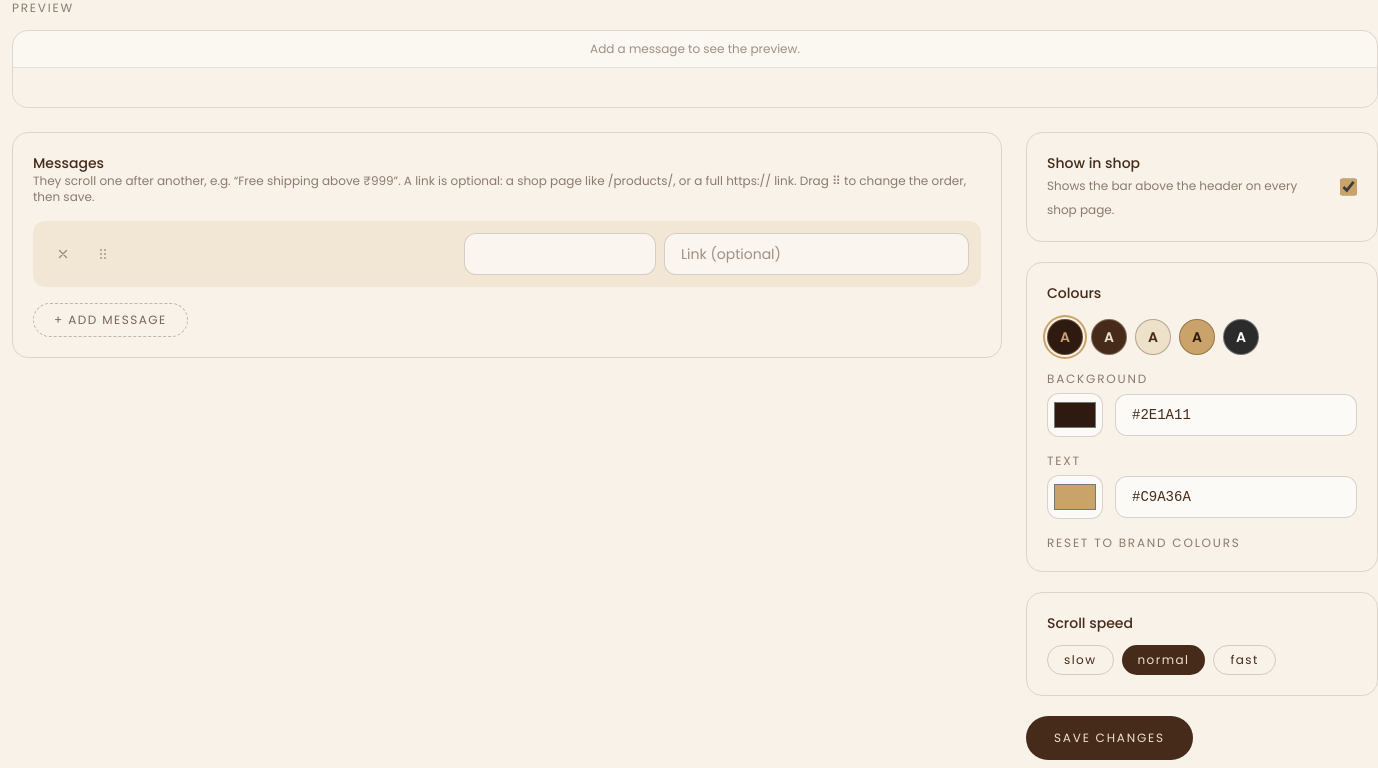
Test: AnnouncementForm › a switched-on bar needs at least one message
The image size is (1378, 768).
Step 1. Click the button "Save changes" → (1109,738), box [1026,716,1193,760]
(page scrolled)
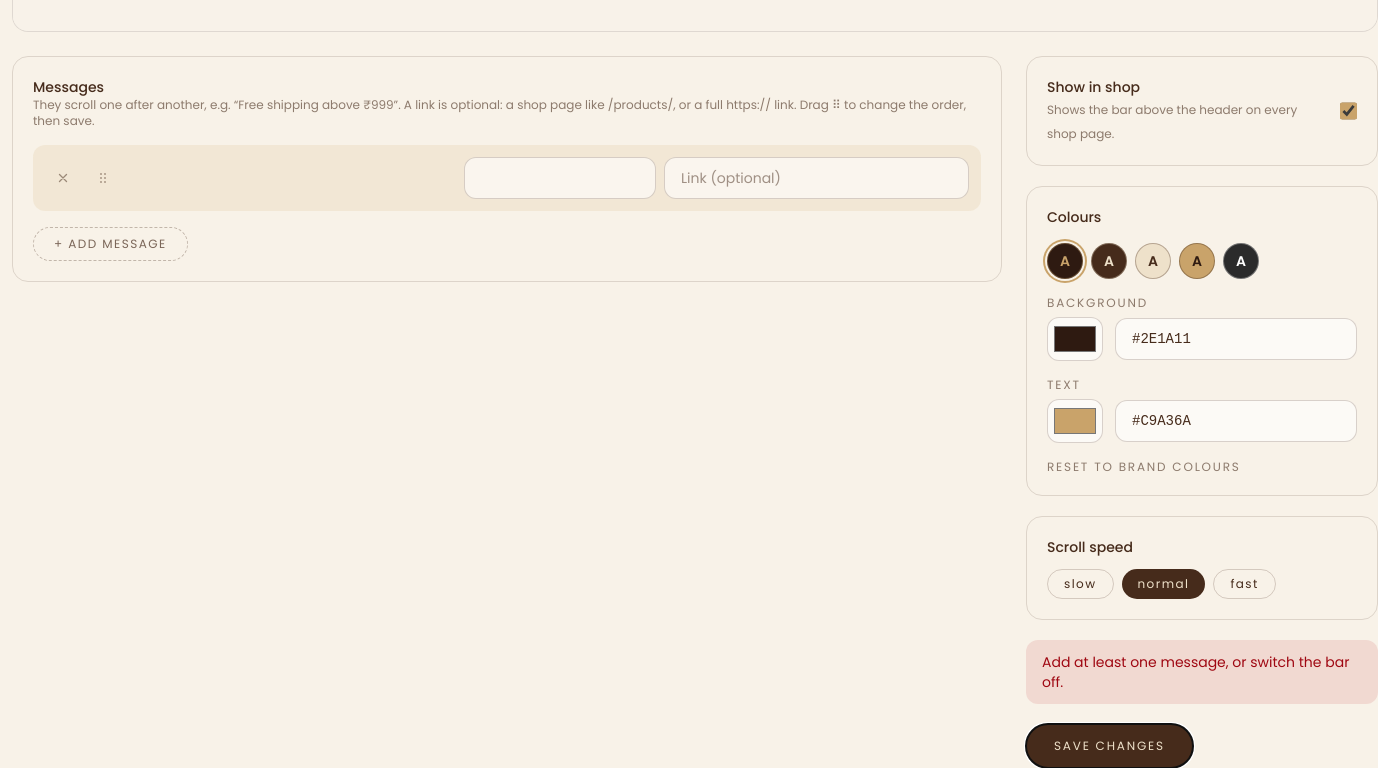
Check: the message reads "Add at least one message, or switch the bar off.", box [1042,652,1349,692]
